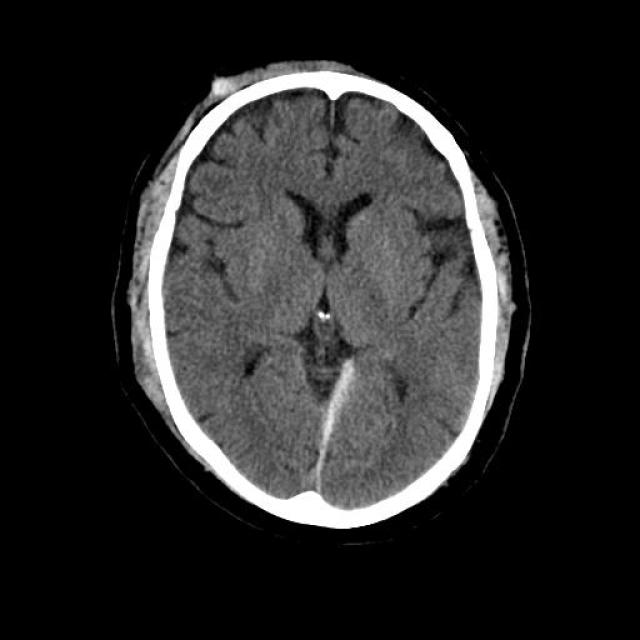Subdural: (256, 344, 404, 535)
